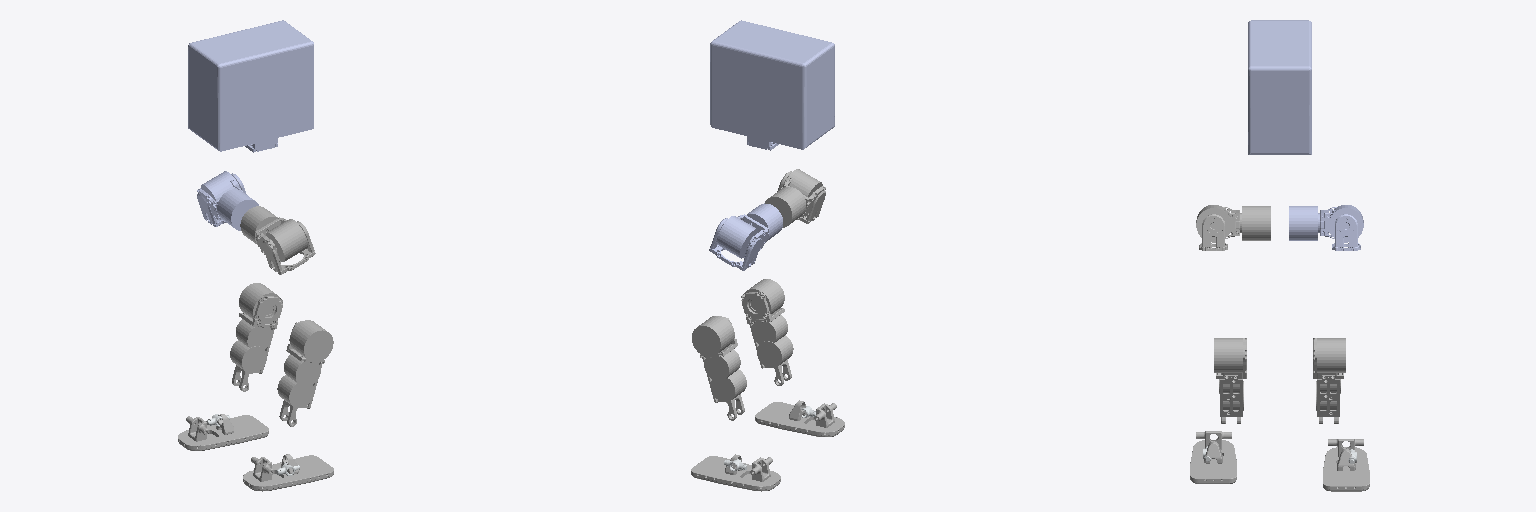
robot.urdf — hi_12dof_250108_4:
<?xml version="1.0" encoding="utf-8"?>
<!-- This URDF was automatically created by SolidWorks to URDF Exporter! Originally created by [author] ([email redacted]) 
     Commit Version: 1.6.0-4-g7f85cfe  Build Version: 1.6.7995.38578
     For more information, please see http://wiki.ros.org/sw_urdf_exporter -->
<robot name="hi_12dof_250108_4">
  <mujoco>
		<compiler meshdir="../meshes/" balanceinertia="true" discardvisual="false" />
	</mujoco>
  <link name="base_link">
    <inertial>
      <origin xyz="-0.00019303 0.00036959 0.01534814" rpy="0 0 0" />
      <mass value="6.73314994" />
      <inertia ixx="0.16409143" ixy="2.467E-05" ixz="0.00018798" iyy="0.08503186" iyz="4.154E-05" izz="0.08435556" />
    </inertial>
    <visual>
      <origin xyz="0 0 0" rpy="0 0 0" />
      <geometry>
        <mesh filename="../meshes/base_link.STL" />
      </geometry>
      <material name="">
        <color rgba="0.792156862745098 0.819607843137255 0.933333333333333 1" />
      </material>
    </visual>
    <collision>
      <origin xyz="0 0 0" rpy="0 0 0" />
      <geometry>
        <mesh filename="../meshes/base_link.STL" />
      </geometry>
    </collision>
  </link>
<!-- right leg -->  
  <link name="r_hip_pitch_link">
    <inertial>
      <origin xyz="-0.00065082 -0.04000352 0" rpy="0 0 0" />
      <mass value="0.68046017" />
      <inertia ixx="0.00047559" ixy="-7.1E-07" ixz="0" iyy="0.00045295" iyz="0" izz="0.00048659" />
    </inertial>
    <visual>
      <origin xyz="0 0 0" rpy="0 0 0" />
      <geometry>
        <mesh filename="../meshes/r_hip_pitch_link.STL" />
      </geometry>
      <material name="">
        <color rgba="0.752941176470588 0.752941176470588 0.752941176470588 1" />
      </material>
    </visual>
    <collision>
      <origin xyz="0 0 0" rpy="0 0 0" />
      <geometry>
        <box size="0.0001 0.0001 0.0001" />
        <!-- <mesh filename="../meshes/r_hip_pitch_link.STL" /> -->
      </geometry>
    </collision>
  </link>
  <joint name="r_hip_pitch_joint" type="revolute">
    <origin xyz="0 -0.0575 -0.141" rpy="0 -0.32 0" />
    <parent link="base_link" />
    <child link="r_hip_pitch_link" />
    <axis xyz="0 1 0" />
    <limit lower="-1.0" upper="1.8" effort="40"    velocity="4.0" />
  </joint>
  <link name="r_hip_roll_link">
    <inertial>
      <origin xyz="-0.02820649 -3.55E-06 -0.07839226" rpy="0 0 0" />
      <mass value="0.80172262" />
      <inertia ixx="0.00145361" ixy="-2E-08" ixz="-3.101E-05" iyy="0.00168848" iyz="-3E-08" izz="0.00071355" />
    </inertial>
    <visual>
      <origin xyz="0 0 0" rpy="0 0 0" />
      <geometry>
        <mesh filename="../meshes/r_hip_roll_link.STL" />
      </geometry>
      <material name="">
        <color rgba="0.752941176470588 0.752941176470588 0.752941176470588 1" />
      </material>
    </visual>
    <collision>
      <origin xyz="0 0 0" rpy="0 0 0" />
      <geometry>
        <box size="0.0001 0.0001 0.0001" />
        <!-- <mesh filename="../meshes/r_hip_roll_link.STL" /> -->
      </geometry>
    </collision>
  </link>
  <joint name="r_hip_roll_joint" type="revolute">
    <origin xyz="0.0287500000000003 -0.0419959226882039 0" rpy="0. 0 0" />
    <parent link="r_hip_pitch_link" />
    <child link="r_hip_roll_link" />
    <axis xyz="1 0 0" />
    <limit lower="-0.5" upper="0.12" effort="40"    velocity="4.0" />
  </joint>
  <link name="r_thigh_link">
    <inertial>
      <origin xyz="0 0.00195775 -0.03843539" rpy="0 0 0" />
      <mass value="0.21648094" />
      <inertia ixx="0.00040135" ixy="0" ixz="0" iyy="0.0002443" iyz="1.748E-05" izz="0.00025072" />
    </inertial>
    <visual>
      <origin xyz="0 0 0" rpy="0 0 0" />
      <geometry>
        <box size="0.0001 0.0001 0.0001" />
        <!-- <mesh filename="../meshes/r_thigh_link.STL" /> -->
      </geometry>
      <material name="">
        <color rgba="0.752941176470588 0.752941176470588 0.752941176470588 1" />
      </material>
    </visual>
    <collision>
      <origin xyz="0 0 0" rpy="0 0 0" />
      <geometry>
        <box size="0.0001 0.0001 0.0001" />
        <!-- <mesh filename="../meshes/r_thigh_link.STL" /> -->
      </geometry>
    </collision>
  </link>
  <joint name="r_thigh_joint" type="revolute">
    <origin xyz="-0.02875 0 -0.127" rpy="0 0 0." />
    <parent link="r_hip_roll_link" />
    <child link="r_thigh_link" />
    <axis xyz="0 0 1" />
    <limit lower="-0.6" upper="0.3" effort="40" velocity="4.0" />
  </joint>
  <link name="r_calf_link">
    <inertial>
      <origin xyz="0.00112598 -0.00049951 -0.05928644" rpy="0 0 0" />
      <mass value="1.48329574" />
      <inertia ixx="0.00567644" ixy="-8E-07" ixz="9.408E-05" iyy="0.00570914" iyz="9.066E-05" izz="0.00082739" />
    </inertial>
    <visual>
      <origin xyz="0 0 0" rpy="0 0 0" />
      <geometry>
        <mesh filename="../meshes/r_calf_link.STL" />
      </geometry>
      <material name="">
        <color rgba="0.752941176470588 0.752941176470588 0.752941176470588 1" />
      </material>
    </visual>
    <collision>
      <origin xyz="0 0 0" rpy="0 0 0" />
      <geometry>
        <box size="0.0001 0.0001 0.0001" />
        <!-- <mesh filename="../meshes/r_calf_link.STL" /> -->
      </geometry>
    </collision>
  </link>
  <joint name="r_calf_joint" type="revolute">
    <origin xyz="0 0 -0.073" rpy="0 0.62 0" />
    <parent link="r_thigh_link" />
    <child link="r_calf_link" />
    <axis xyz="0 1 0" />
    <limit lower="-1" upper="1.1" effort="40"    velocity="4.0" />
  </joint>
  <link name="r_ankle_pitch_link">
    <inertial>
      <origin xyz="0 0 0" rpy="0 0 0" />
      <mass value="0.0089231" />
      <inertia ixx="2.3E-07" ixy="0" ixz="0" iyy="1.02E-06" iyz="0" izz="9.9E-07" />
    </inertial>
    <visual>
      <origin xyz="0 0 0" rpy="0 0 0" />
      <geometry>
        <mesh filename="../meshes/r_ankle_pitch_link.STL" />
      </geometry>
      <material name="">
        <color rgba="0.898039215686275 0.917647058823529 0.929411764705882 1" />
      </material>
    </visual>
    <collision>
      <origin xyz="0 0 0" rpy="0 0 0" />
      <geometry>
        <box size="0.0001 0.0001 0.0001" />
        <!-- <mesh filename="../meshes/r_ankle_pitch_link.STL" /> -->
      </geometry>
    </collision>
  </link>
  <joint name="r_ankle_pitch_joint" type="revolute">
    <origin xyz="0 0 -0.2" rpy="0 -0.3 0" />
    <parent link="r_calf_link" />
    <child link="r_ankle_pitch_link" />
    <axis xyz="0 1 0" />
    <limit lower="-0.4" upper="1.15" effort="40"    velocity="4.0" />
  </joint>
  <link name="r_ankle_roll_link">
    <inertial>
      <origin xyz="0.01853925 1.46E-06 -0.022799" rpy="0 0 0" />
      <mass value="0.34845776" />
      <inertia ixx="0.00019585" ixy="-2E-08" ixz="1.687E-05" iyy="0.00063628" iyz="0" izz="0.00080057" />
    </inertial>
    <visual>
      <origin xyz="0 0 0" rpy="0 0 0" />
      <geometry>
        <mesh filename="../meshes/r_ankle_roll_link.STL" />
      </geometry>
      <material name="">
        <color rgba="0.752941176470588 0.752941176470588 0.752941176470588 1" />
      </material>
    </visual>
    <collision>
      <origin xyz="0 0 0" rpy="0 0 0" />
      <geometry>
        <!-- <box size="0.0001 0.0001 0.0001" /> -->
        <mesh filename="../meshes/r_ankle_roll_link.STL" />
      </geometry>
    </collision>
  </link>
  <joint name="r_ankle_roll_joint" type="revolute">
    <origin xyz="0 0 0" rpy="0 0 0" />
    <parent link="r_ankle_pitch_link" />
    <child link="r_ankle_roll_link" />
    <axis xyz="1 0 0" />
    <limit lower="-0.05" upper="0.05" effort="40" velocity="4.0" />
  </joint>

<!-- left leg -->  
  <link name="l_hip_pitch_link">
    <inertial>
      <origin xyz="-0.00065082 0.04000698 0" rpy="0 0 0" />
      <mass value="0.68046017" />
      <inertia ixx="0.0004756" ixy="7.1E-07" ixz="0" iyy="0.00045295" iyz="0" izz="0.0004866" />
    </inertial>
    <visual>
      <origin xyz="0 0 0" rpy="0 0 0" />
      <geometry>
        <mesh filename="../meshes/l_hip_pitch_link.STL" />
      </geometry>
      <material name="">
        <color rgba="0.792156862745098 0.819607843137255 0.933333333333333 1" />
      </material>
    </visual>
    <collision>
      <origin xyz="0 0 0" rpy="0 0 0" />
      <geometry>
        <box size="0.0001 0.0001 0.0001" />
        <!-- <mesh filename="../meshes/l_hip_pitch_link.STL" /> -->
      </geometry>
    </collision>
  </link>
  <joint name="l_hip_pitch_joint" type="revolute">
    <origin xyz="0 0.0575 -0.141" rpy="0 -0.32 0" />
    <parent link="base_link" />
    <child link="l_hip_pitch_link" />
    <axis xyz="0 1 0" />
    <limit lower="-1" upper="1.8" effort="40"    velocity="4.0" />
  </joint>
  <link name="l_hip_roll_link">
    <inertial>
      <origin xyz="-0.02820649 0 -0.07839226" rpy="0 0 0" />
      <mass value="0.80172262" />
      <inertia ixx="0.00145361" ixy="0" ixz="-3.1E-05" iyy="0.00168848" iyz="0" izz="0.00071355" />
    </inertial>
    <visual>
      <origin xyz="0 0 0" rpy="0 0 0" />
      <geometry>
        <mesh filename="../meshes/l_hip_roll_link.STL" />
      </geometry>
      <material name="">
        <color rgba="0.792156862745098 0.819607843137255 0.933333333333333 1" />
      </material>
    </visual>
    <collision>
      <origin xyz="0 0 0" rpy="0 0 0" />
      <geometry>
        <box size="0.0001 0.0001 0.0001" />
        <!-- <mesh filename="../meshes/l_hip_roll_link.STL" /> -->
      </geometry>
    </collision>
  </link>
  <joint name="l_hip_roll_joint" type="revolute">
    <origin xyz="0.02875 0.042 0" rpy="-0.0 0 0" />
    <parent link="l_hip_pitch_link" />
    <child link="l_hip_roll_link" />
    <axis xyz="1 0 0" />
    <limit lower="-0.12" upper="0.5" effort="40"    velocity="4.0" />
  </joint>
  <link name="l_thigh_link">
    <inertial>
      <origin xyz="0 -0.00195775 -0.03843539" rpy="0 0 0" />
      <mass value="0.21648094" />
      <inertia ixx="0.00040135" ixy="0" ixz="0" iyy="0.0002443" iyz="-1.748E-05" izz="0.00025072" />
    </inertial>
    <visual>
      <origin xyz="0 0 0" rpy="0 0 0" />
      <geometry>
        <box size="0.0001 0.0001 0.0001" />
        <!-- <mesh filename="../meshes/l_thigh_link.STL" /> -->
      </geometry>
      <material name="">
        <color rgba="0.752941176470588 0.752941176470588 0.752941176470588 1" />
      </material>
    </visual>
    <collision>
      <origin xyz="0 0 0" rpy="0 0 0" />
      <geometry>
        <box size="0.0001 0.0001 0.0001" />
        <!-- <mesh filename="../meshes/l_thigh_link.STL" /> -->
      </geometry>
    </collision>
  </link>
  <joint name="l_thigh_joint" type="revolute">
    <origin xyz="-0.02875 0 -0.127" rpy="0 0 0" />
    <parent link="l_hip_roll_link" />
    <child link="l_thigh_link" />
    <axis xyz="0 0 1" />
    <limit lower="-0.3" upper="0.6" effort="40"    velocity="4.0" />
  </joint>
  <link name="l_calf_link">
    <inertial>
      <origin xyz="0.00111832 0.00049709 -0.0596686" rpy="0 0 0" />
      <mass value="1.48757619" />
      <inertia ixx="0.00575491" ixy="8.3E-07" ixz="9.319E-05" iyy="0.00578785" iyz="-9.095E-05" izz="0.00082773" />
    </inertial>
    <visual>
      <origin xyz="0 0 0" rpy="0 0 0" />
      <geometry>
        <mesh filename="../meshes/l_calf_link.STL" />
      </geometry>
      <material name="">
        <color rgba="0.752941176470588 0.752941176470588 0.752941176470588 1" />
      </material>
    </visual>
    <collision>
      <origin xyz="0 0 0" rpy="0 0 0" />
      <geometry>
        <box size="0.0001 0.0001 0.0001" />
        <!-- <mesh filename="../meshes/l_calf_link.STL" /> -->
      </geometry>
    </collision>
  </link>
  <joint name="l_calf_joint" type="revolute">
    <origin xyz="0 0 -0.073" rpy="0 0.62 0" />
    <parent link="l_thigh_link" />
    <child link="l_calf_link" />
    <axis xyz="0 1 0" />
    <limit lower="-1.0" upper="1.1" effort="40" velocity="4.0" />
  </joint>
  <link name="l_ankle_pitch_link">
    <inertial>
      <origin xyz="0 0 0" rpy="0 0 0" />
      <mass value="0.0089231" />
      <inertia ixx="2.3E-07" ixy="0" ixz="0" iyy="1.02E-06" iyz="0" izz="9.9E-07" />
    </inertial>
    <visual>
      <origin xyz="0 0 0" rpy="0 0 0" />
      <geometry>
        <mesh filename="../meshes/l_ankle_pitch_link.STL" />
      </geometry>
      <material name="">
        <color rgba="0.898039215686275 0.917647058823529 0.929411764705882 1" />
      </material>
    </visual>
    <collision>
      <origin xyz="0 0 0" rpy="0 0 0" />
      <geometry>
        <box size="0.0001 0.0001 0.0001" />
        <!-- <mesh filename="../meshes/l_ankle_pitch_link.STL" /> -->
      </geometry>
    </collision>
  </link>
  <joint name="l_ankle_pitch_joint" type="revolute">
    <origin xyz="0 0 -0.199999997760877" rpy="0 -0.3 0" />
    <parent link="l_calf_link" />
    <child link="l_ankle_pitch_link" />
    <axis xyz="0 1 0" />
    <limit lower="-0.4" upper="1.15" effort="40"    velocity="4.0" />
  </joint>
  <link name="l_ankle_roll_link">
    <inertial>
      <origin xyz="0.01853925 1.46E-06 -0.022799" rpy="0 0 0" />
      <mass value="0.34845776" />
      <inertia ixx="0.00019585" ixy="-2E-08" ixz="1.687E-05" iyy="0.00063628" iyz="0" izz="0.00080057" />
    </inertial>
    <visual>
      <origin xyz="0 0 0" rpy="0 0 0" />
      <geometry>
        <mesh filename="../meshes/l_ankle_roll_link.STL" />
      </geometry>
      <material name="">
        <color rgba="0.752941176470588 0.752941176470588 0.752941176470588 1" />
      </material>
    </visual>
    <collision>
      <origin xyz="0 0 0" rpy="0 0 0" />
      <geometry>
        <mesh filename="../meshes/l_ankle_roll_link.STL" />
      </geometry>
    </collision>
  </link>
  <joint name="l_ankle_roll_joint" type="revolute">
    <origin xyz="0 0 0" rpy="0.0 0 0" />
    <parent link="l_ankle_pitch_link" />
    <child link="l_ankle_roll_link" />
    <axis xyz="1 0 0" />
    <limit lower="-0.05" upper="0.05" effort="40" velocity="4.0" />
  </joint>
</robot>

--- Render facts (derived) ---
3 views of the same robot in one strip: view 1: azimuth 30°, elevation 25°; view 2: azimuth 150°, elevation 25°; view 3: azimuth 270°, elevation 25° (orthographic).
Robot: hi_12dof_250108_4 — 13 links, 12 joints (12 revolute); root link base_link; default pose: all joints at 0.
Visible links, largest first — view 1: base_link, l_calf_link, r_calf_link, l_ankle_roll_link, r_ankle_roll_link, r_hip_roll_link, l_hip_pitch_link, r_hip_pitch_link, l_hip_roll_link; view 2: base_link, r_calf_link, l_calf_link, r_ankle_roll_link, l_ankle_roll_link, l_hip_roll_link, r_hip_pitch_link, l_hip_pitch_link, r_hip_roll_link; view 3: base_link, r_calf_link, l_calf_link, r_ankle_roll_link, l_ankle_roll_link, r_hip_pitch_link, l_hip_pitch_link, r_hip_roll_link, l_hip_roll_link.
Link boxes in pixels (left/top/right/bottom): base_link: left=188, top=20, right=313, bottom=152; l_calf_link: left=230, top=283, right=282, bottom=391; r_calf_link: left=277, top=320, right=333, bottom=426; l_ankle_roll_link: left=178, top=414, right=268, bottom=450; r_ankle_roll_link: left=243, top=454, right=333, bottom=491; r_hip_roll_link: left=262, top=219, right=315, bottom=274; l_hip_pitch_link: left=197, top=180, right=258, bottom=230; r_hip_pitch_link: left=240, top=206, right=286, bottom=261; l_hip_roll_link: left=197, top=171, right=246, bottom=226; base_link: left=710, top=20, right=834, bottom=150; r_calf_link: left=741, top=279, right=793, bottom=385; l_calf_link: left=692, top=316, right=746, bottom=420; r_ankle_roll_link: left=755, top=400, right=844, bottom=436; l_ankle_roll_link: left=691, top=454, right=780, bottom=491; l_hip_roll_link: left=709, top=216, right=761, bottom=270; r_hip_pitch_link: left=765, top=177, right=825, bottom=227; l_hip_pitch_link: left=738, top=203, right=782, bottom=257; r_hip_roll_link: left=777, top=169, right=825, bottom=223; base_link: left=1248, top=20, right=1311, bottom=154; r_calf_link: left=1214, top=338, right=1246, bottom=423; l_calf_link: left=1313, top=338, right=1345, bottom=423; r_ankle_roll_link: left=1190, top=431, right=1236, bottom=483; l_ankle_roll_link: left=1323, top=439, right=1369, bottom=491; r_hip_pitch_link: left=1223, top=206, right=1270, bottom=240; l_hip_pitch_link: left=1289, top=206, right=1336, bottom=240; r_hip_roll_link: left=1196, top=205, right=1230, bottom=250; l_hip_roll_link: left=1329, top=205, right=1363, bottom=250.
Bounding box of the posed robot: 0.174 × 0.27 × 0.7095 m (x, y, z).
11 mesh visuals loaded from 11 distinct referenced files (11 binary STL).